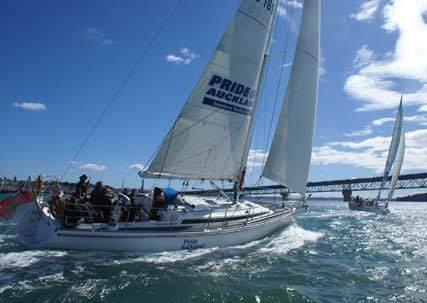fanchuan: (19, 1, 327, 250), (342, 95, 410, 215)
